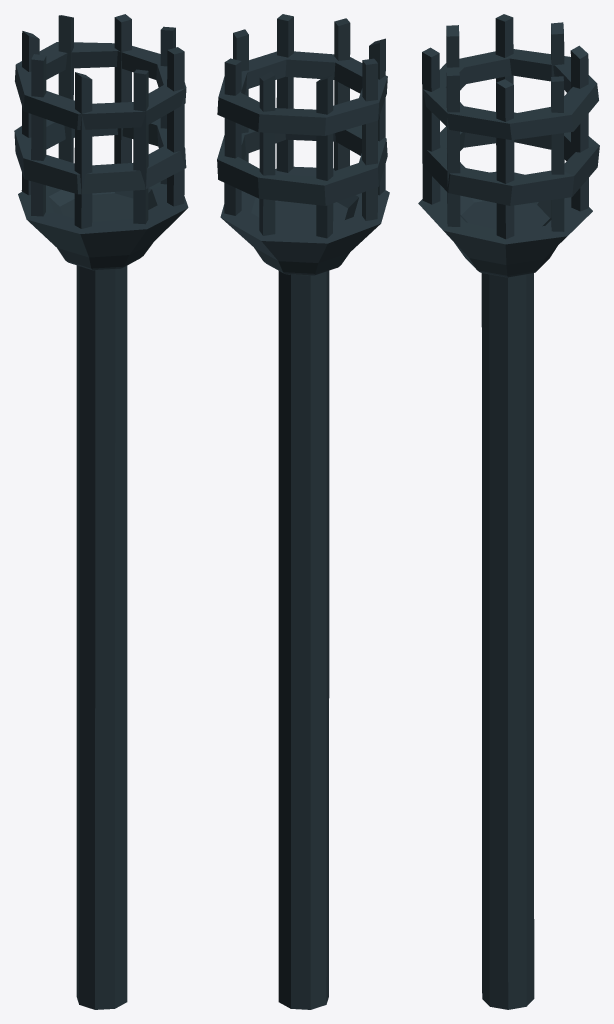
File: Torch_01.fbx
3 views of the same model, side by side, from view 1: azimuth 30°, elevation 25°; view 2: azimuth 150°, elevation 25°; view 3: azimuth 270°, elevation 25° (orthographic).
Visible parts, largest first — view 1: Torch_01; view 2: Torch_01; view 3: Torch_01.
Boxes of the visible parts, box(x1,y1,x2,y2) form: Torch_01: box(14, 14, 188, 1009); Torch_01: box(217, 14, 389, 1009); Torch_01: box(418, 14, 599, 1009).
Size of the model in its own units: 30.43 by 183 by 31.61.
